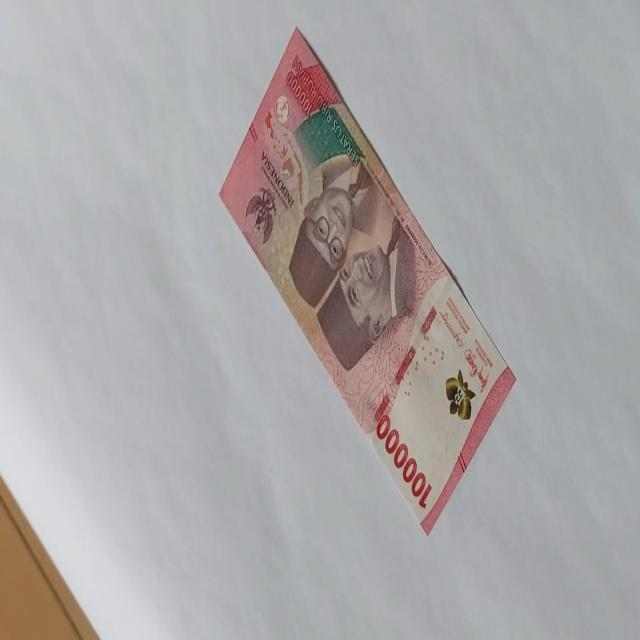seratus ribu rupiah: (218, 25, 517, 535)
